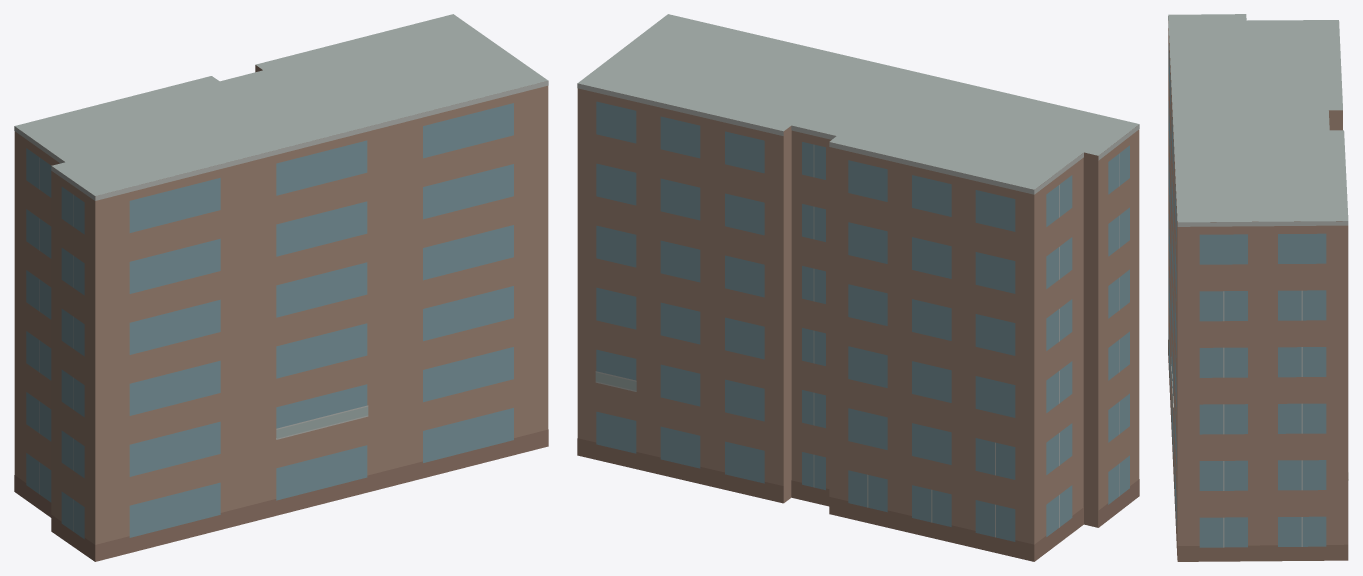
Rendered from survey-upis-32828016.glb.
3 renders of one model, left to right at view 1: azimuth 30°, elevation 25°; view 2: azimuth 150°, elevation 25°; view 3: azimuth 270°, elevation 25°, orthographic. The views are drawn at different scales.
Visible parts, largest first — view 1: survey-upis-32828016.tmp; view 2: survey-upis-32828016.tmp; view 3: survey-upis-32828016.tmp.
Boxes of the visible parts, <box> form: survey-upis-32828016.tmp: <box>14,14,548,561</box>; survey-upis-32828016.tmp: <box>577,14,1139,561</box>; survey-upis-32828016.tmp: <box>1168,14,1348,561</box>.
Size of the model in its own units: 24.07 by 18.28 by 8.82.
